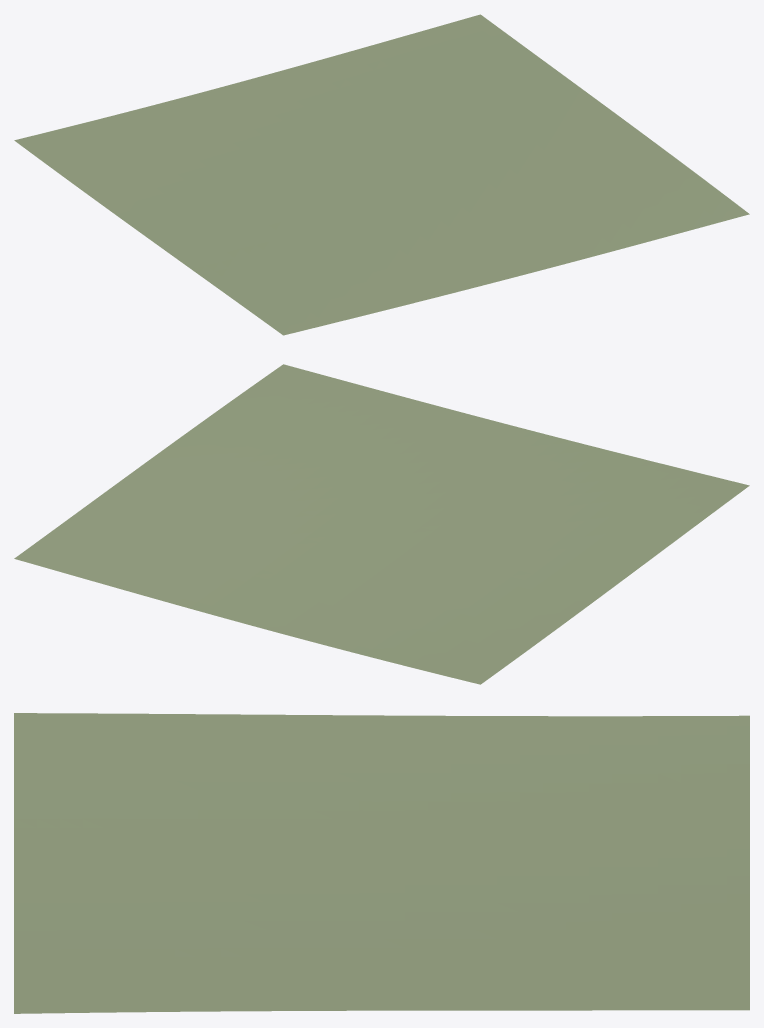
Rendered from expanse-2-30.glb.
3 renders of one model, top to bottom at view 1: azimuth 30°, elevation 25°; view 2: azimuth 150°, elevation 25°; view 3: azimuth 270°, elevation 25°, orthographic. The views are drawn at different scales.
Parts seen in each view (by area): view 1: expanse-2-30; view 2: expanse-2-30; view 3: expanse-2-30.
Boxes of the visible parts, <box> form: expanse-2-30: <box>14,14,749,335</box>; expanse-2-30: <box>14,364,749,684</box>; expanse-2-30: <box>14,713,749,1013</box>.
Size of the model in its own units: 256 by 6.5 by 256.
